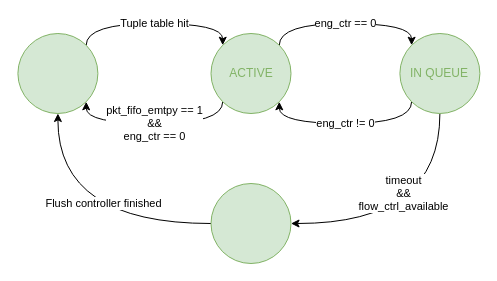
Image size: 497x281. Some labels were removed from this diagram. The centre of each missing label's shape, as x and y in pixels:
FLUSH: point (250, 223)
INACTIVE: point (57, 73)
